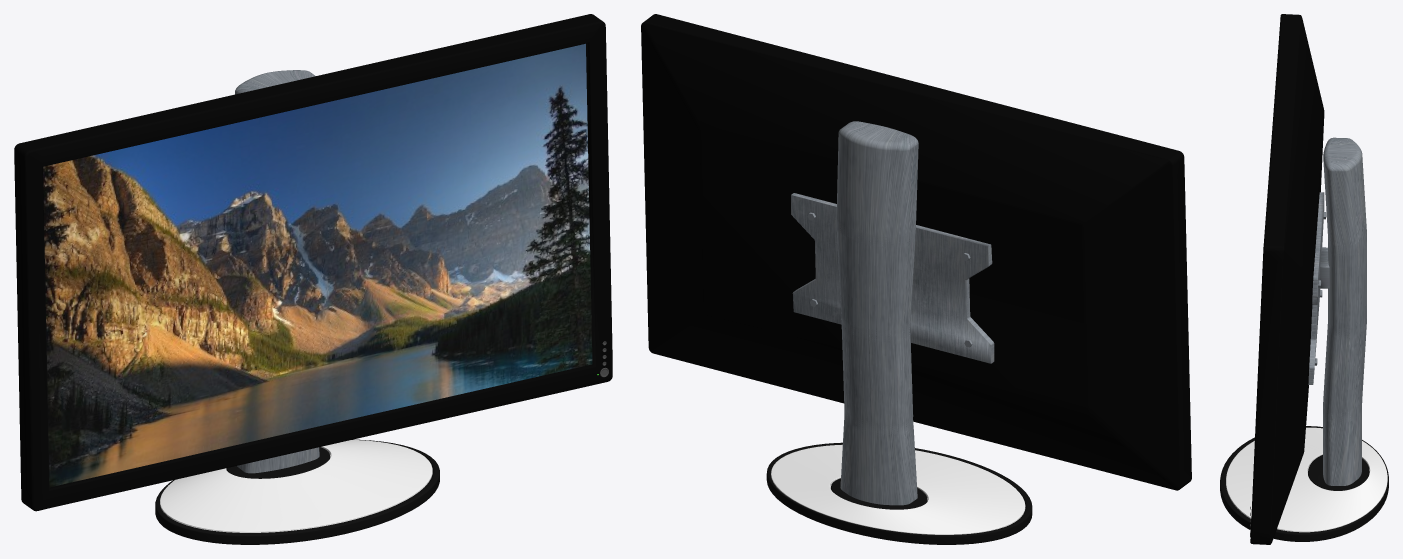
The model's file is monitor.glb.
The picture shows the model from 3 angles, left to right: view 1: azimuth 30°, elevation 25°; view 2: azimuth 150°, elevation 25°; view 3: azimuth 270°, elevation 25°; orthographic projection. The views are drawn at different scales.
Parts seen in each view (by area): view 1: Monitor; view 2: Monitor; view 3: Monitor.
Boxes of the visible parts, x1=… form: Monitor: x1=14, y1=14, x2=612, y2=544; Monitor: x1=641, y1=14, x2=1191, y2=544; Monitor: x1=1220, y1=14, x2=1388, y2=544.
Bounding box in the file's own units: 0.8644 × 0.6152 × 0.262.
7 materials, 2 textured.
